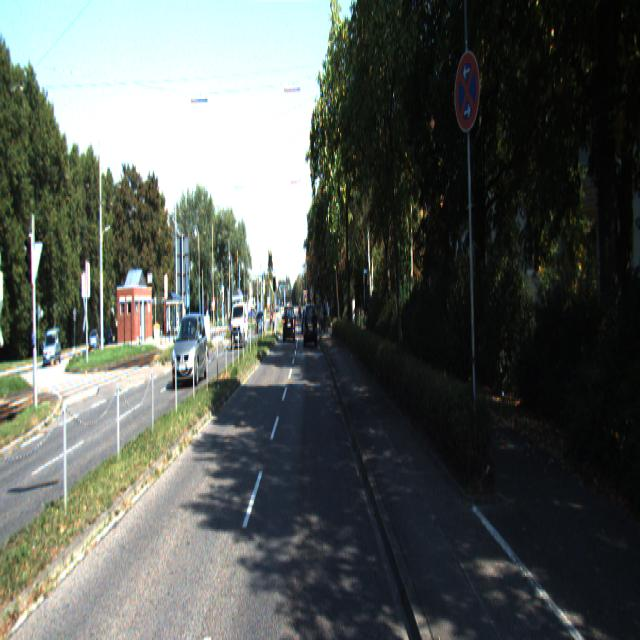Car: (172, 310, 209, 390), (304, 302, 318, 348), (284, 304, 296, 342)
DontCare: (40, 325, 60, 372), (89, 327, 113, 350), (321, 293, 328, 331), (255, 311, 265, 334)
Van: (231, 302, 249, 348)
